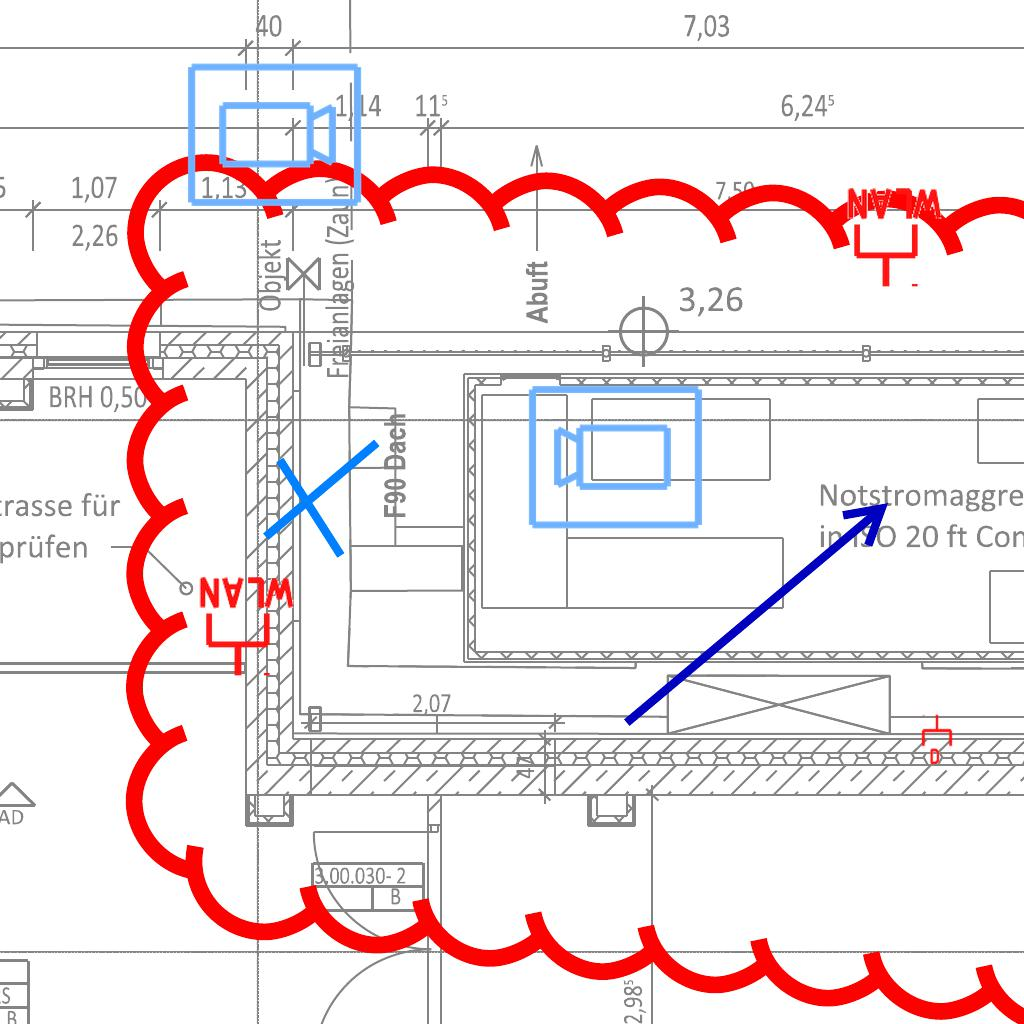Datenanschluss_einfach: (920, 714, 954, 764)
KFO_Kamera_mit_Festobjektiv: (183, 59, 365, 213), (525, 379, 707, 533)
WLAN: (843, 186, 947, 291), (195, 575, 299, 680)
